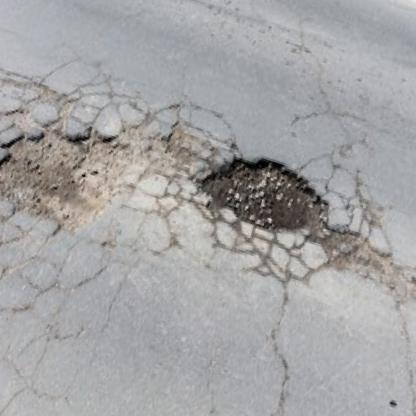pothole: (0, 101, 137, 252), (189, 138, 337, 256), (156, 121, 204, 174)
